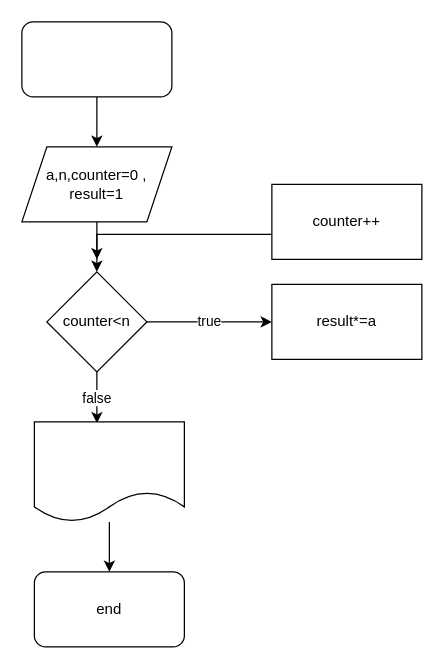
Some shapes in this 444 by 669 pixel diagram are drawn without their labels. Here are the shapes that lost their labels. From the top down, the box of each, then its label:
(21, 21, 172, 97): start
(33, 421, 184, 522): result
